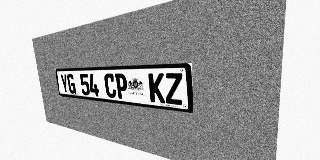4: (88, 74, 99, 96)
5: (79, 74, 90, 96)
C: (104, 73, 117, 98)
G: (66, 74, 76, 94)
K: (148, 73, 165, 103)
P: (114, 73, 128, 99)
Y: (60, 74, 69, 93)
Z: (164, 73, 183, 105)
